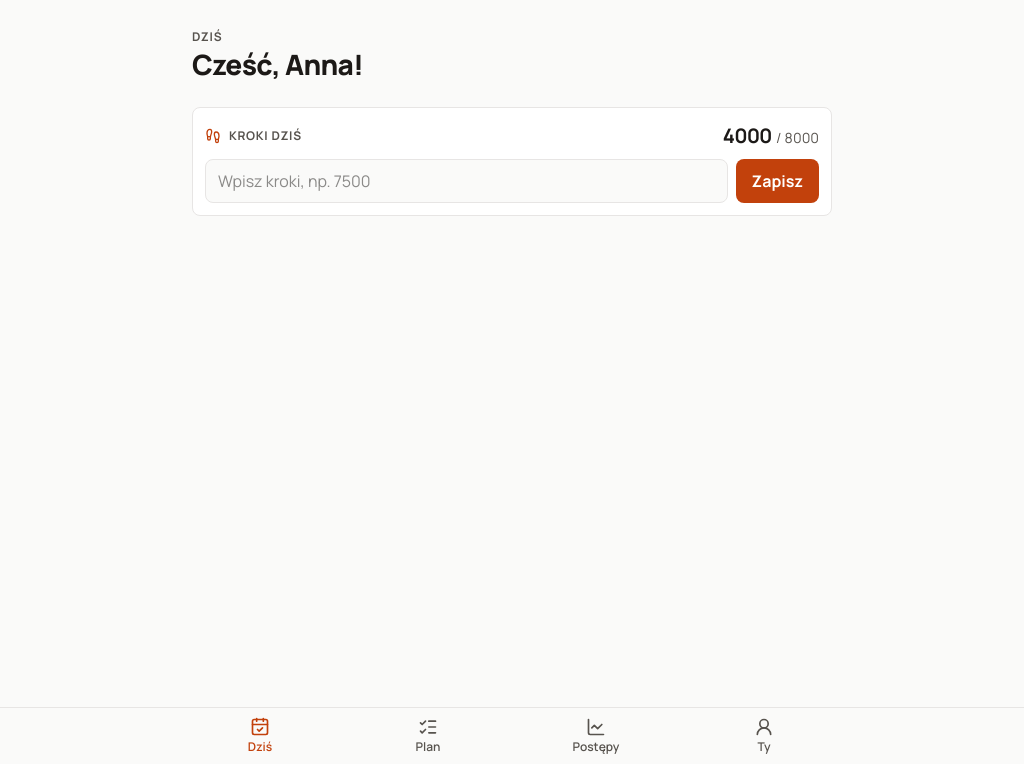
Test: PlanPortal and the shell flags › steps: a small row on "Dziś", the chart only in "Postępy"
Expected: the heading "Cześć, Anna!" is shown, [192, 45, 363, 83]
Expected: the field with test id "steps-input" is shown, [205, 159, 728, 203]
Click the button "Postępy". click: (596, 736)
box: [512, 708, 680, 763]
(page scrolled)
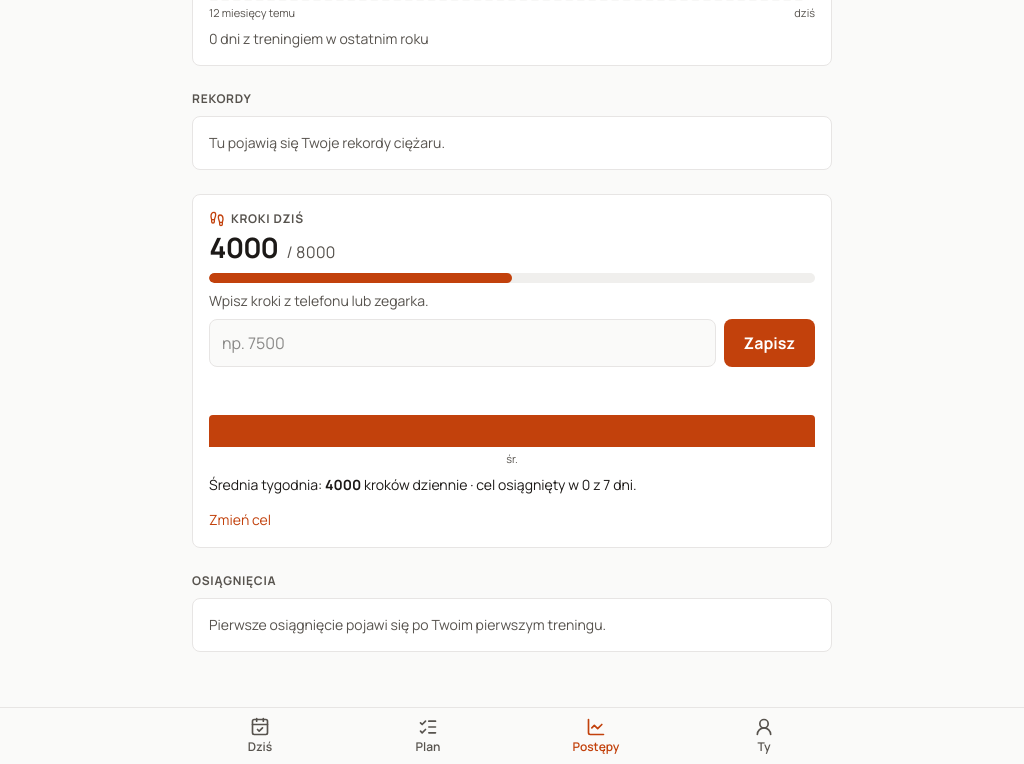
Now the element with test id "steps-week" is shown, box [209, 383, 815, 467]
